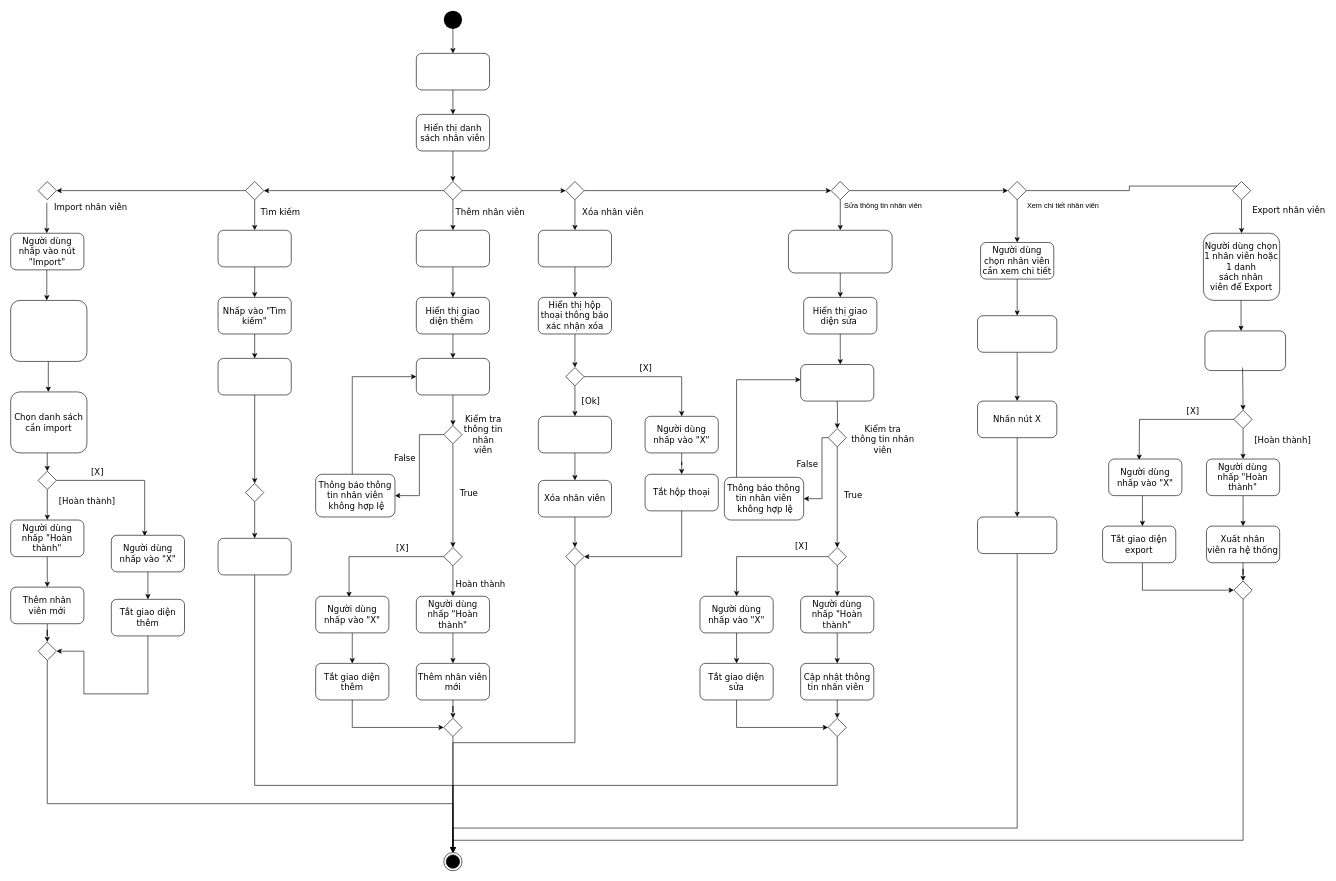
Image size: 1336x881. Some labels were removed from this diagram. The shapes that lost their labels are listed below. From the top down, each one's centre as x and y in pixels, then its label:
[453,71]: Nhấp vào section
[254,248]: Nhập chuỗi tìm kiếm
[453,248]: Người dùng nhấp vào "Thêm nhân viên"
[575,248]: Người dùng nhấp vào "Xóa nhân viên"
[840,251]: Người dùng chọn nhân viên cần sửa và nhấp vào "Sửa nhân viên"
[48,330]: Hiển thị giao diện chọn danh sách cần import từ thiết bị của mình
[1017,333]: Hiển thị giao diện xem chi tiết nhân viên
[1245,350]: Hệ thống export nhân viên ra ngoài thiết bị
[254,376]: Tìm kiếm theo chuỗi
[453,376]: Điền thông tin nhân viên
[837,382]: Điền thông tin cần sửa
[575,434]: Người dùng nhấp vào "Ok"
[1017,535]: Tắt giao diện xem chi tiết
[254,556]: Hiển thị kết quả
